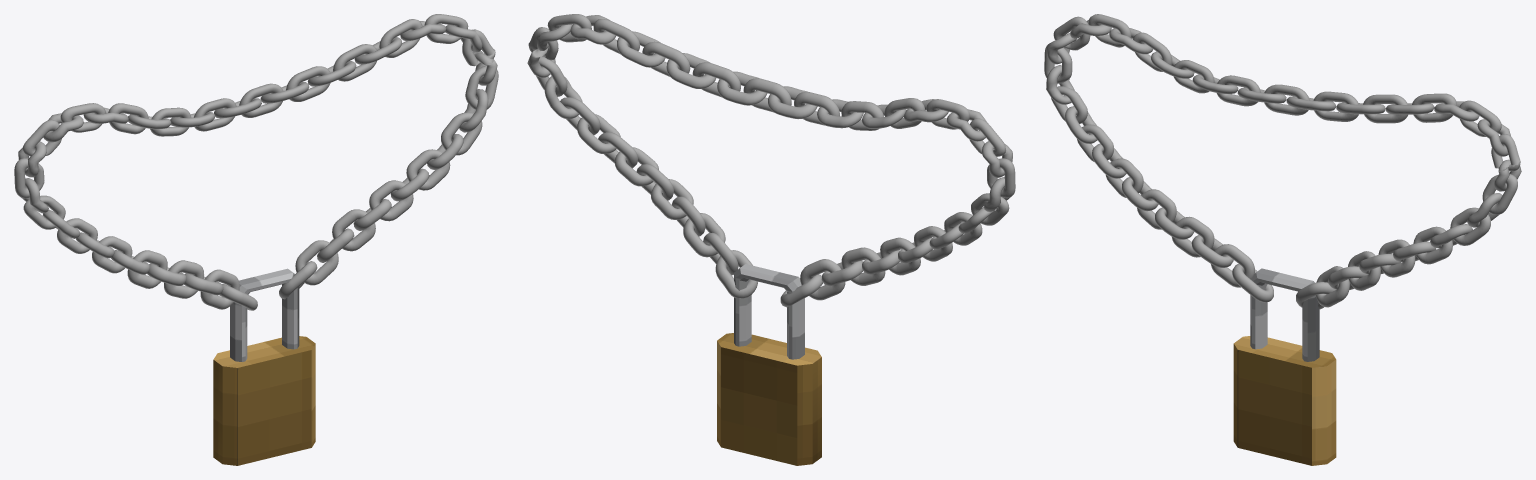
File: HH_BED_ChainAndLock.fbx
3 renders of one model, left to right at view 1: azimuth 30°, elevation 25°; view 2: azimuth 150°, elevation 25°; view 3: azimuth 330°, elevation 25°, orthographic. The views are drawn at different scales.
Parts seen in each view (by area): view 1: Chain, Padlock_Locked; view 2: Chain, Padlock_Locked; view 3: Chain, Padlock_Locked.
Part boxes in pixels (bbox=[...]): Chain: bbox=[14, 14, 498, 310]; Padlock_Locked: bbox=[213, 268, 315, 465]; Chain: bbox=[527, 14, 1015, 307]; Padlock_Locked: bbox=[717, 264, 821, 465]; Chain: bbox=[1044, 14, 1521, 309]; Padlock_Locked: bbox=[1233, 268, 1336, 465].
Bounding box in the file's own units: 16.01 × 12.43 × 1.81.
2 materials, 1 textured.
